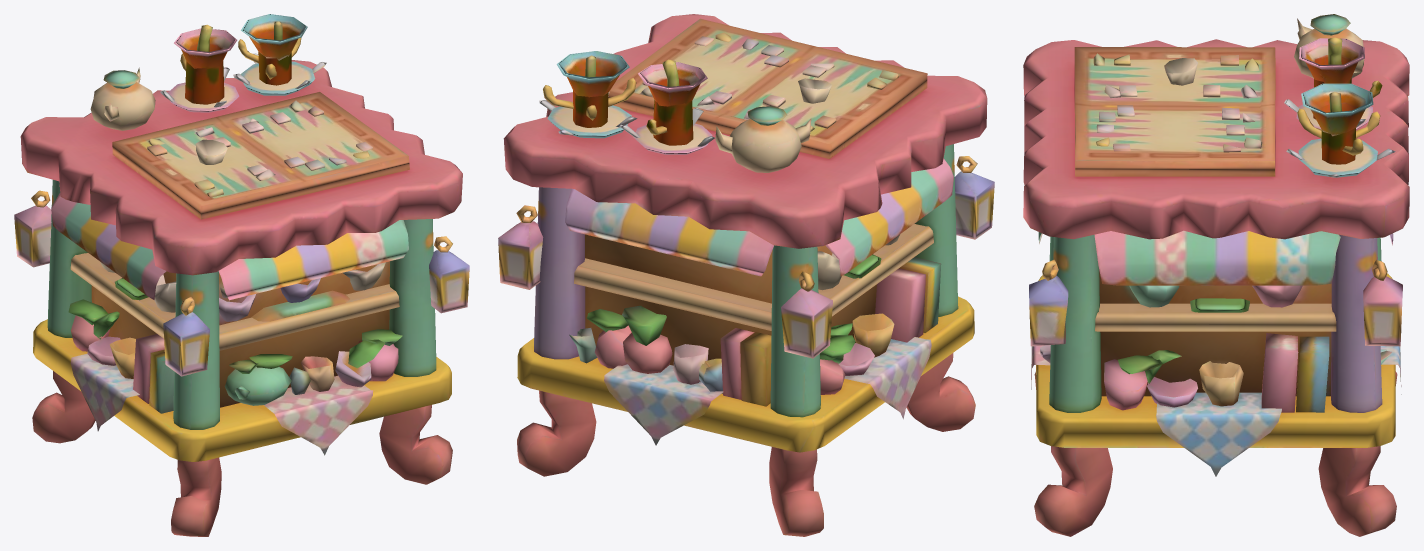
File: tea-backgammon-table.glb
3 views of the same model, side by side, from view 1: azimuth 30°, elevation 25°; view 2: azimuth 150°, elevation 25°; view 3: azimuth 270°, elevation 25° (orthographic). The views are drawn at different scales.
Parts seen in each view (by area): view 1: geometry_0; view 2: geometry_0; view 3: geometry_0.
Boxes of the visible parts, <box> form: geometry_0: <box>14,14,469,536</box>; geometry_0: <box>498,14,994,536</box>; geometry_0: <box>1023,14,1409,536</box>.
Bounding box in the file's own units: 0.8132 × 1 × 0.7993.
Materials: 1 (1 with a texture image).
